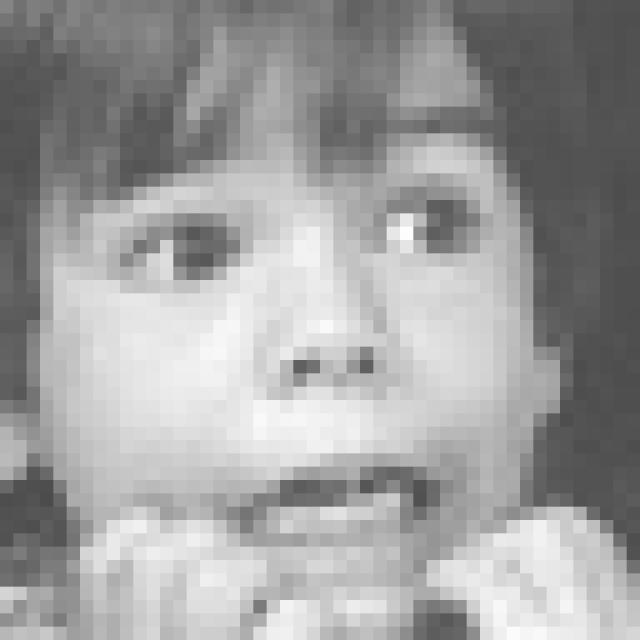fear: (87, 102, 530, 579)
